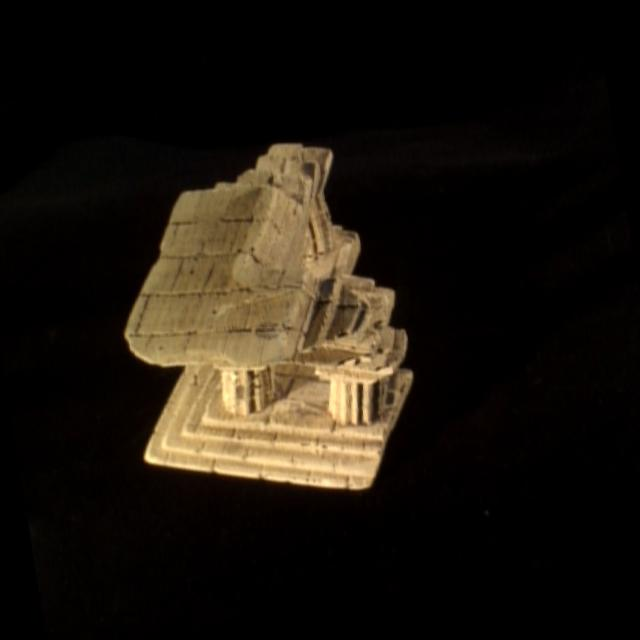Instance-Segmentation: (125, 144, 411, 488)
